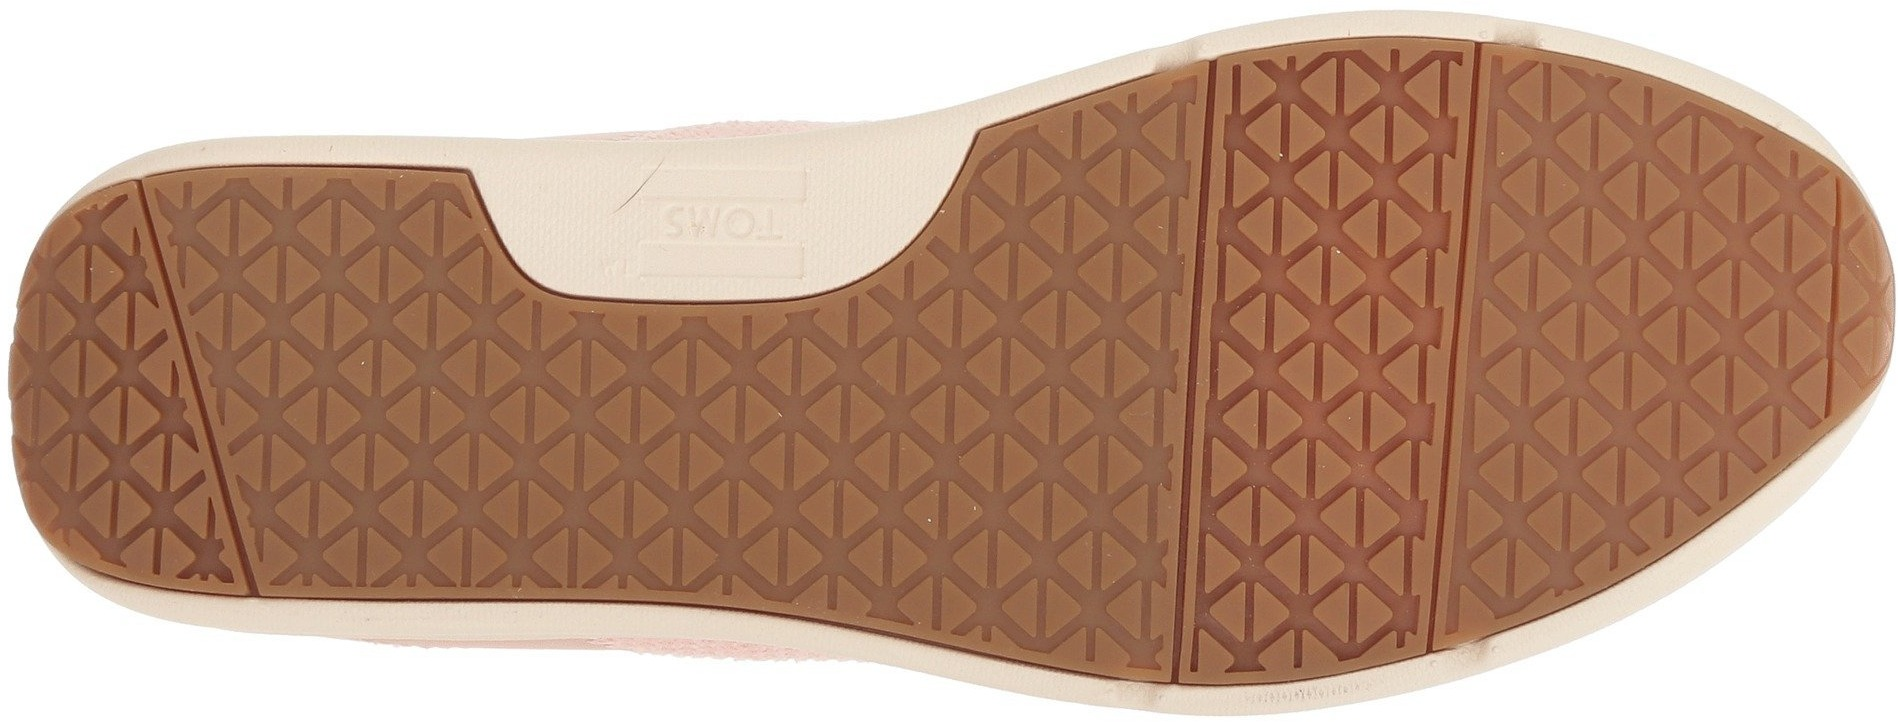text: (663, 165, 799, 280)
triangle: (1218, 145, 1570, 476), (839, 323, 1144, 613), (188, 267, 481, 565), (497, 320, 772, 597), (1595, 166, 1833, 442), (997, 139, 1190, 345), (1214, 472, 1405, 671), (21, 296, 171, 462), (1461, 482, 1584, 601)
